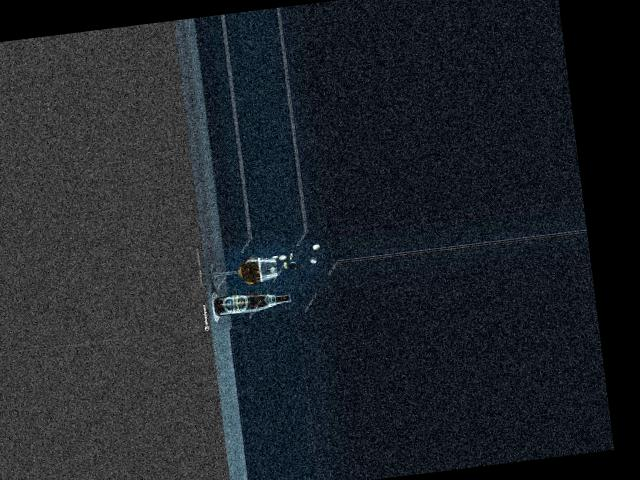beer: (214, 288, 291, 315)
